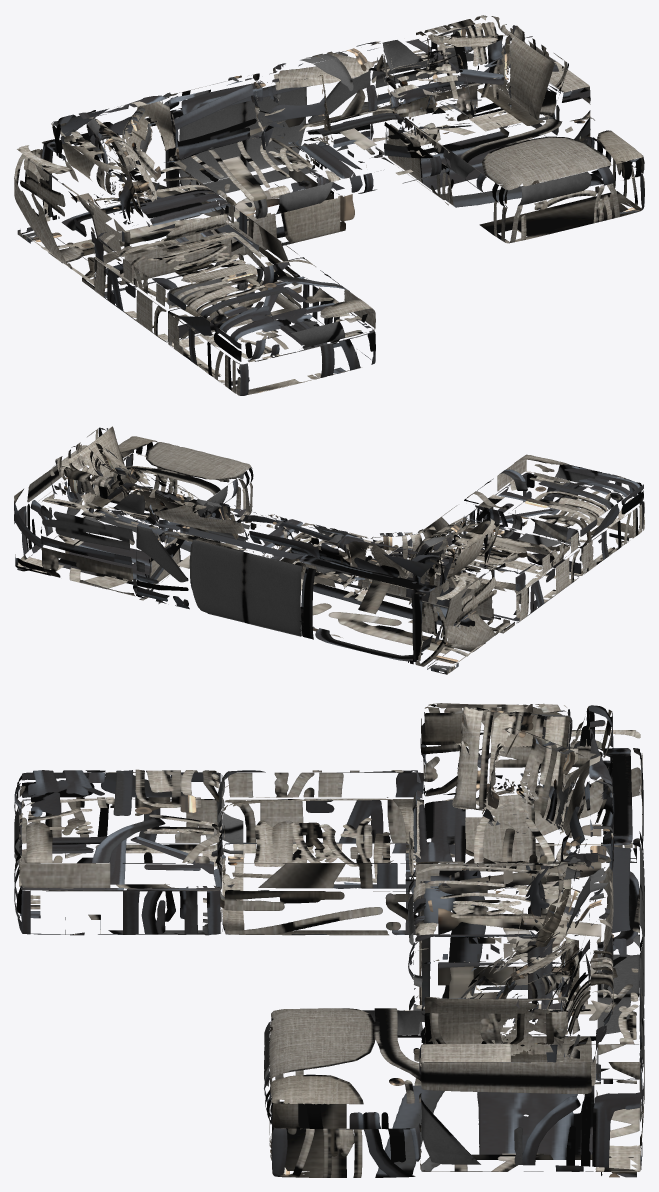
File: raw_model.obj
The picture shows the model from 3 angles, top to bottom: view 1: azimuth 30°, elevation 25°; view 2: azimuth 150°, elevation 25°; view 3: azimuth 270°, elevation 25°; orthographic projection. The views are drawn at different scales.
Parts seen in each view (by area): view 1: solid_001, solid_002; view 2: solid_001, solid_002; view 3: solid_001, solid_002.
Part boxes in pixels (<box>): solid_001: <box>14,15,644,395</box>; solid_002: <box>17,111,639,385</box>; solid_001: <box>14,426,644,668</box>; solid_002: <box>17,485,628,674</box>; solid_001: <box>14,703,644,1177</box>; solid_002: <box>65,842,636,1177</box>.
Bounding box in the file's own units: 3.77 × 0.89 × 2.99.
